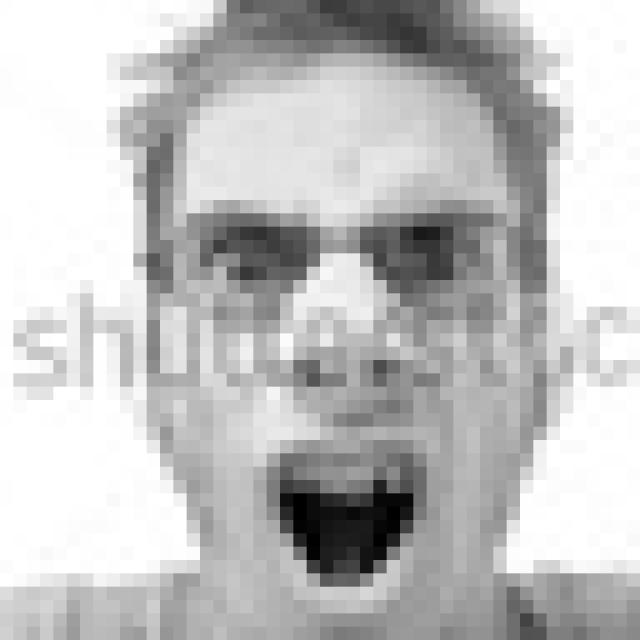angry: (181, 197, 496, 620)
